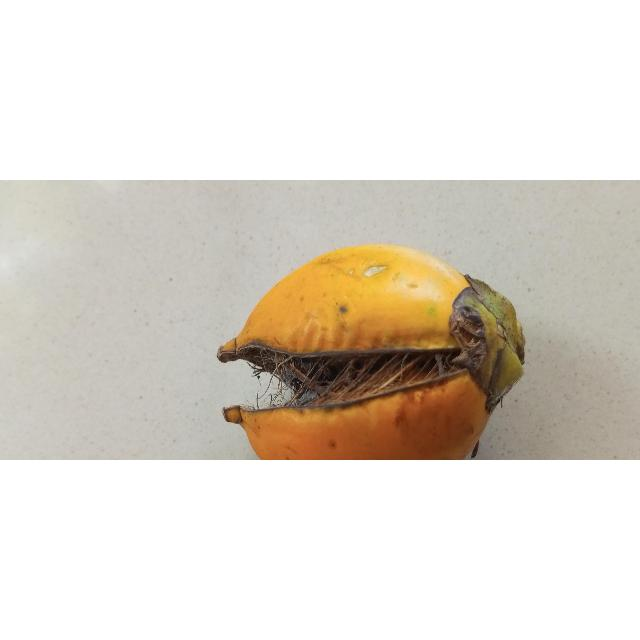damaged: (218, 245, 527, 461)
